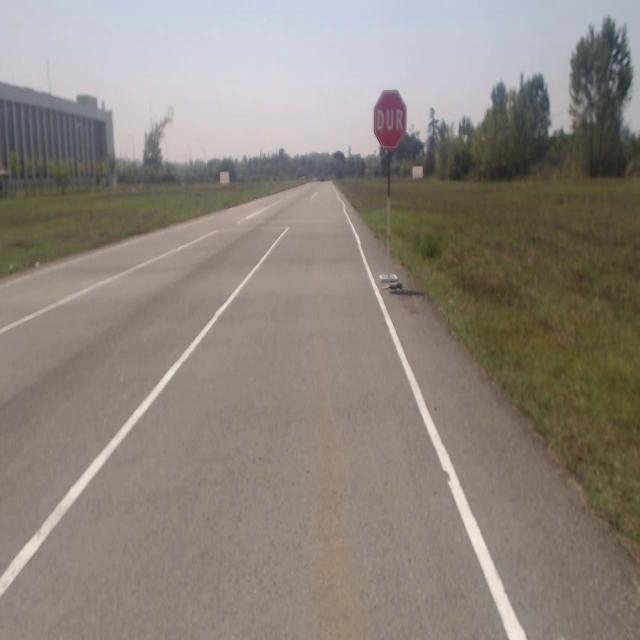dur: (374, 90, 406, 148)
